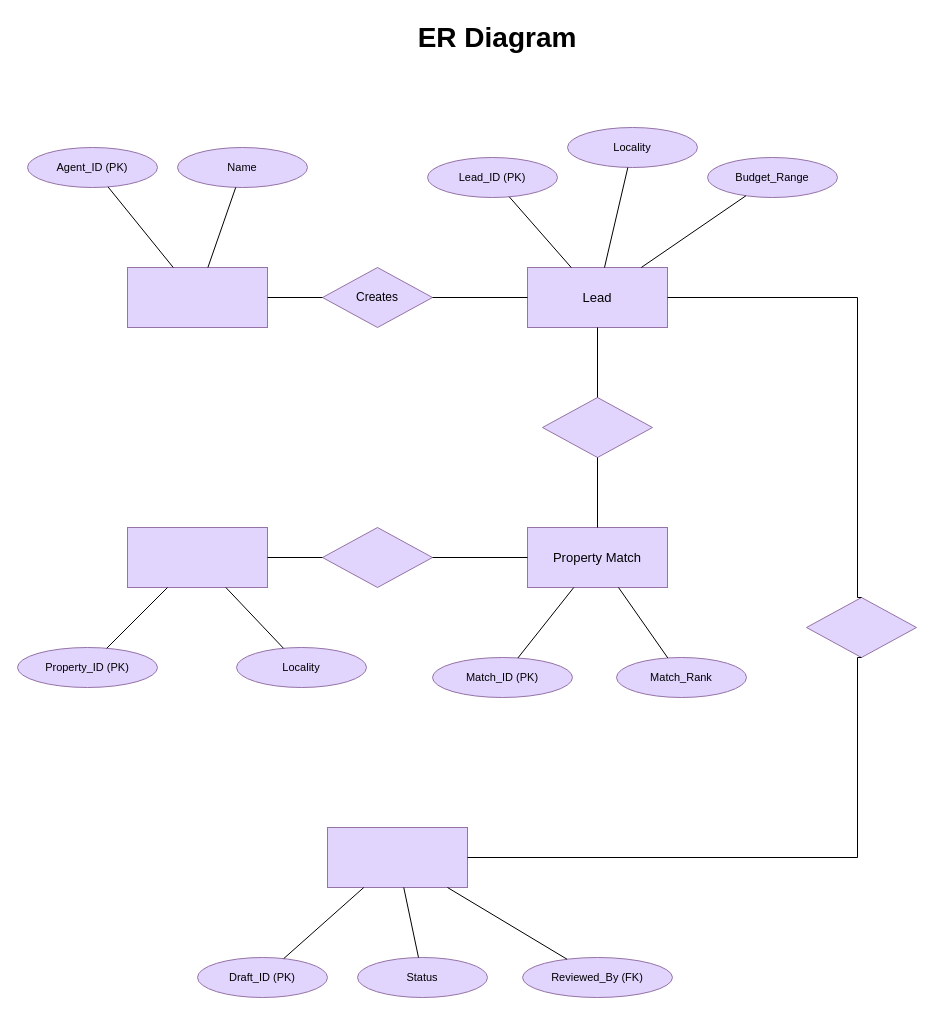
The diagram is 934 pixels wide and 1015 high, and some of its shapes have lost their labels. The shapes that lost their labels are listed below. From the top down, each one's centre as x and y in pixels, then its label:
At point (197, 297): "Agent".
At point (597, 427): "Has".
At point (197, 557): "Property".
At point (377, 557): "Appears in".
At point (861, 627): "Generates".
At point (397, 857): "Reply Draft".
